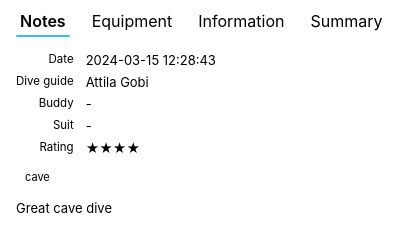
it: InfoPanel › shows converted depth/temp in Information tab when units is IMPERIAL
Click the tab "Information" at x=241, y=21, box [186,6,296,36]
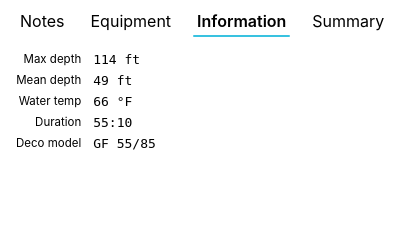
Now the text "114 ft" is shown, box [93,52,140,67]
Now the text "66 °F" is shown, box [93,94,132,109]
